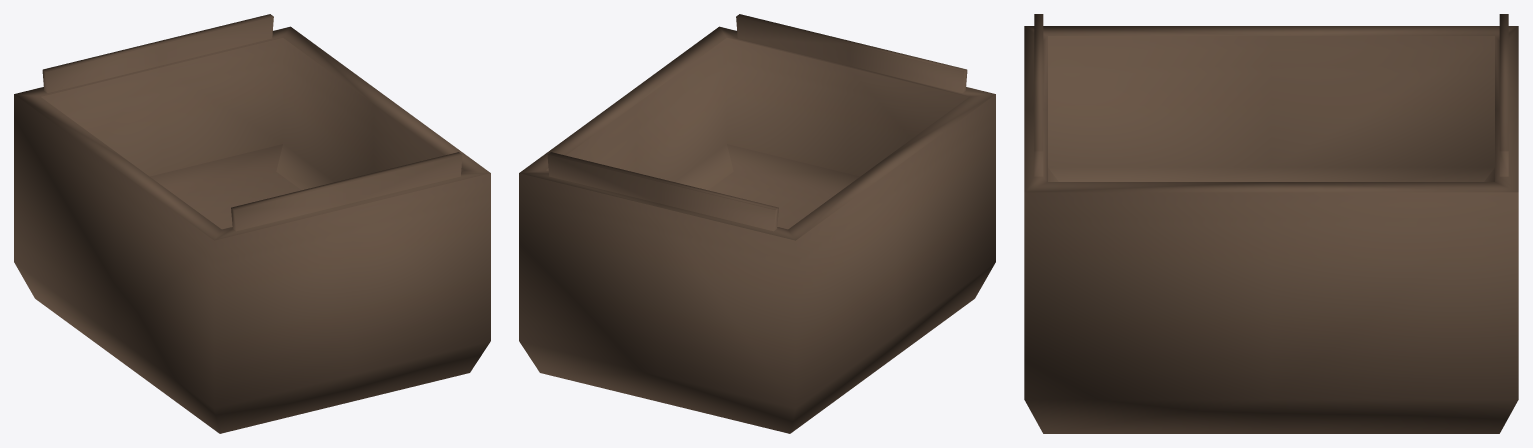
The model's file is SmallCrate.fbx.
3 views of the same model, side by side, from view 1: azimuth 30°, elevation 25°; view 2: azimuth 150°, elevation 25°; view 3: azimuth 270°, elevation 25° (orthographic). The views are drawn at different scales.
Parts seen in each view (by area): view 1: SmallCrate; view 2: SmallCrate; view 3: SmallCrate.
Boxes of the visible parts, left/top/right/bottom form: SmallCrate: left=14, top=14, right=490, bottom=433; SmallCrate: left=519, top=14, right=995, bottom=433; SmallCrate: left=1024, top=14, right=1518, bottom=433.
Bounding box in the file's own units: 27.12 × 20.95 × 33.99.
